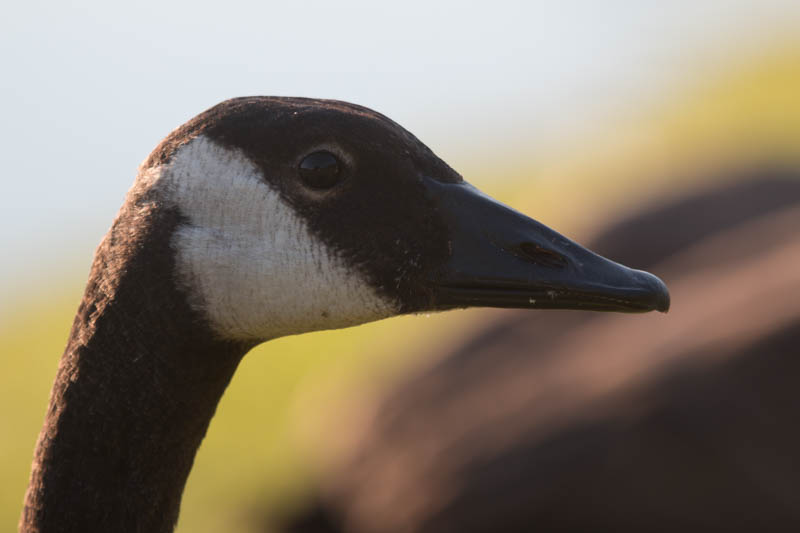goose-head: (110, 95, 670, 348)
